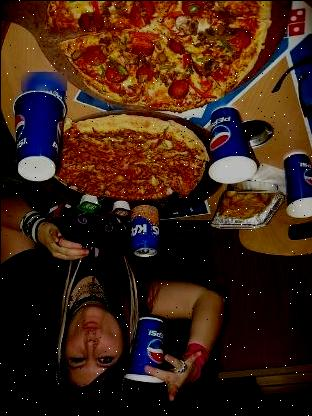Can: (127, 204, 161, 258)
Others: (12, 90, 66, 180), (209, 107, 257, 183), (125, 317, 166, 383), (282, 152, 312, 218)
